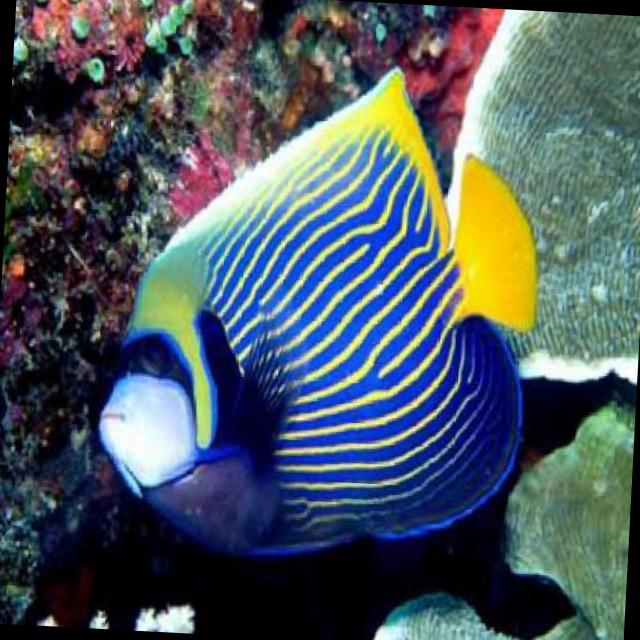AngelFish: (92, 52, 544, 574)
